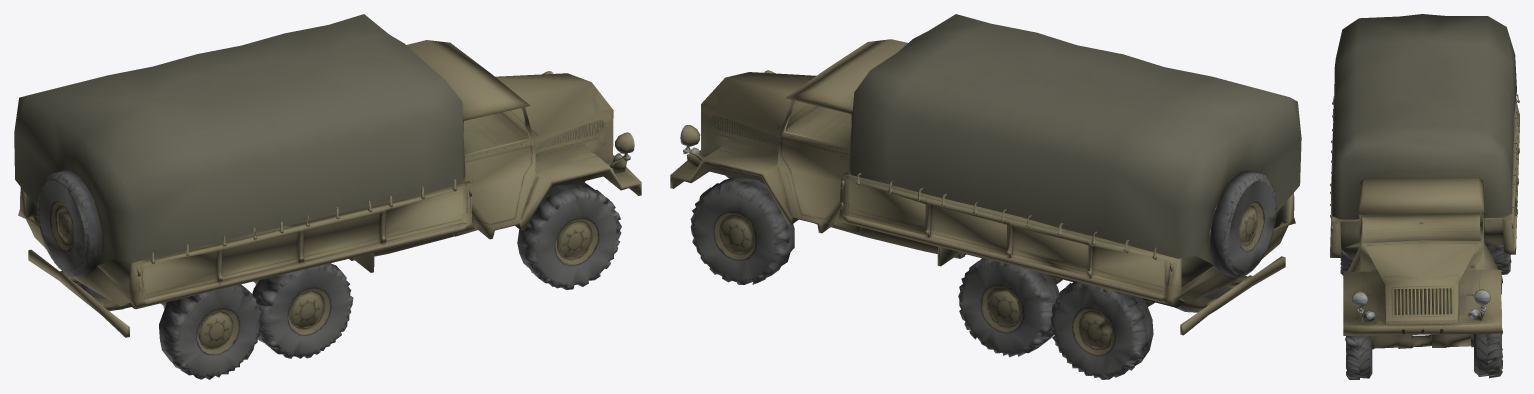
Rendered from truck.glb.
3 views of the same model, side by side, from view 1: azimuth 30°, elevation 25°; view 2: azimuth 150°, elevation 25°; view 3: azimuth 270°, elevation 25° (orthographic). The views are drawn at different scales.
Parts seen in each view (by area): view 1: tripo_node_c70a059a-da30-45e4-9bd7-285e3927caa9; view 2: tripo_node_c70a059a-da30-45e4-9bd7-285e3927caa9; view 3: tripo_node_c70a059a-da30-45e4-9bd7-285e3927caa9.
Part boxes in pixels (x1,y1,x2,y2): tripo_node_c70a059a-da30-45e4-9bd7-285e3927caa9: [14, 14, 641, 379]; tripo_node_c70a059a-da30-45e4-9bd7-285e3927caa9: [670, 14, 1301, 379]; tripo_node_c70a059a-da30-45e4-9bd7-285e3927caa9: [1330, 14, 1519, 379].
Bounding box in the file's own units: 7.2 × 3.2 × 2.86.
Materials: 1 (1 with a texture image).
